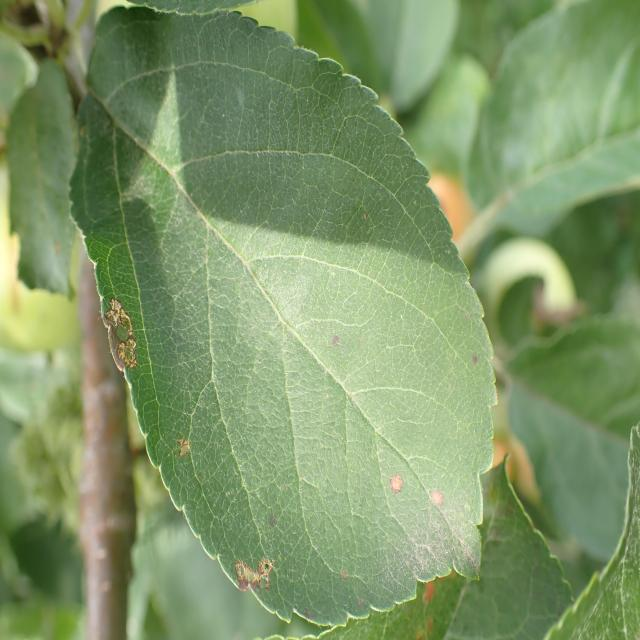Black Rot: (91, 280, 162, 399), (222, 539, 284, 614), (375, 458, 406, 509), (421, 482, 449, 531)
